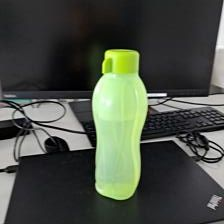bottle: (88, 47, 148, 198)
